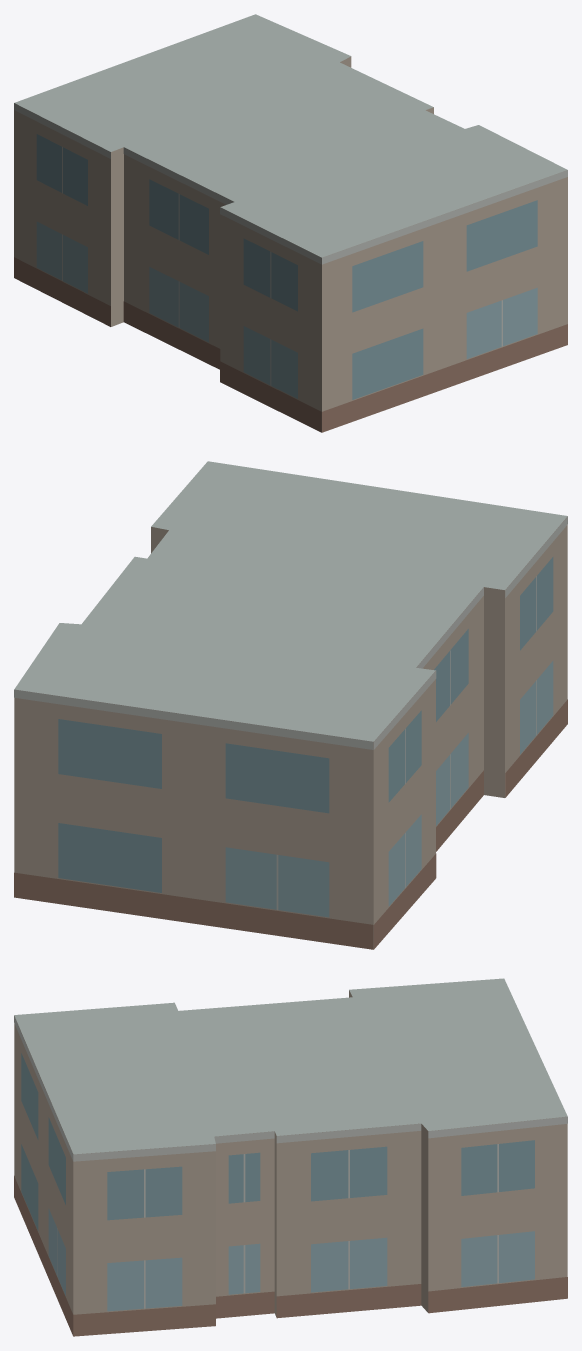
The model's file is survey-upis-32878762.glb.
3 views of the same model, one above another, from view 1: azimuth 30°, elevation 25°; view 2: azimuth 150°, elevation 25°; view 3: azimuth 270°, elevation 25° (orthographic). The views are drawn at different scales.
Parts seen in each view (by area): view 1: survey-upis-32878762.tmp; view 2: survey-upis-32878762.tmp; view 3: survey-upis-32878762.tmp.
Part boxes in pixels (box(x1,y1,x2,y2)): survey-upis-32878762.tmp: box(14, 14, 567, 432); survey-upis-32878762.tmp: box(14, 461, 567, 949); survey-upis-32878762.tmp: box(14, 978, 567, 1336).
Size of the model in its own units: 12.65 by 6.1 by 16.82.
